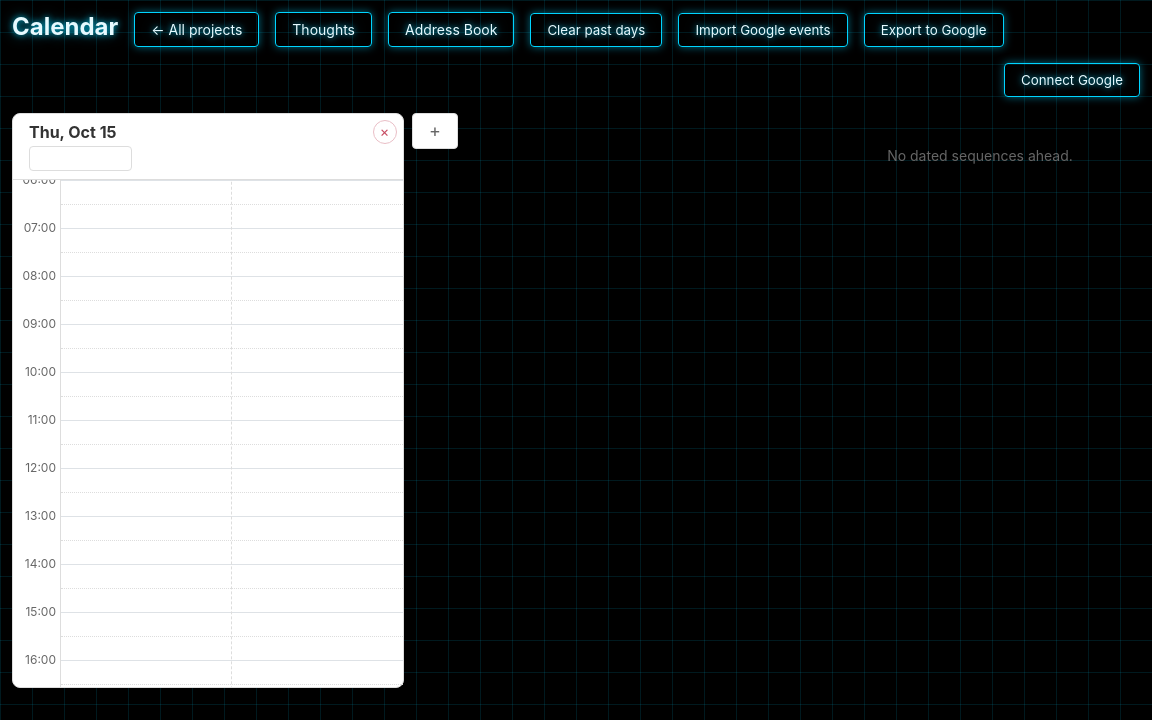
CalendarPage export › the button is disabled while exporting
(page scrolled)
Click the button "Export to Google" at (934, 30), box top-left (864, 13), bottom-right (1004, 47)
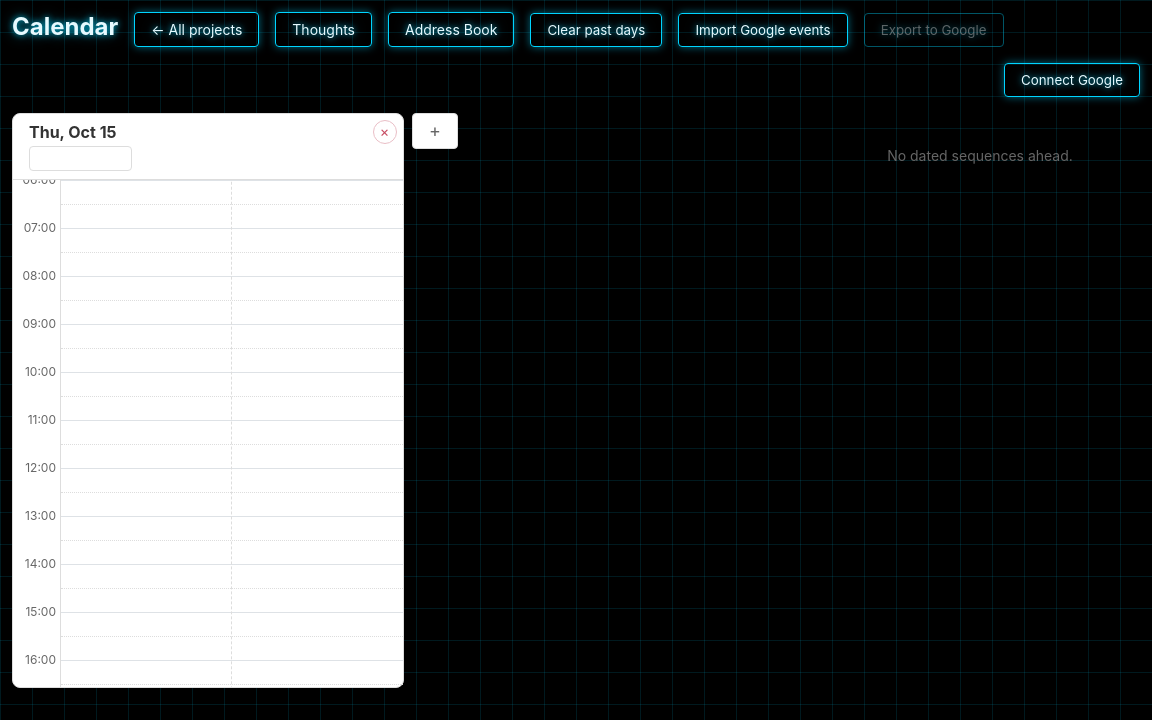
Check: the button "Export to Google" is disabled, box top-left (864, 13), bottom-right (1004, 47)
